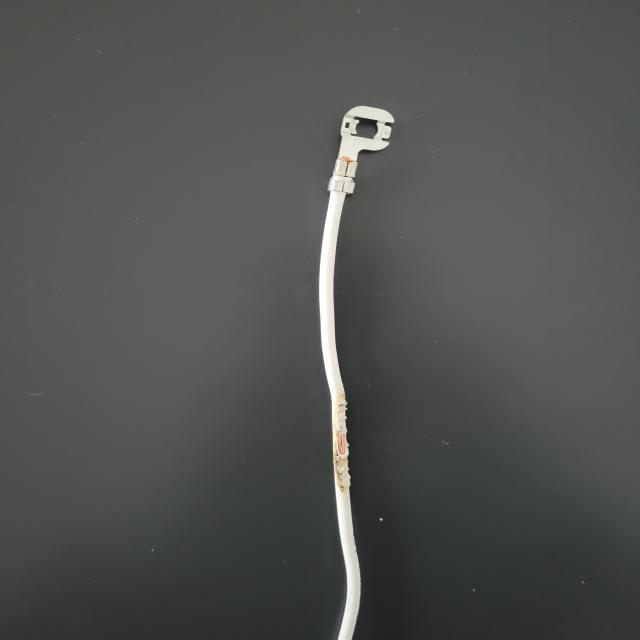defect: (290, 387, 376, 530)
